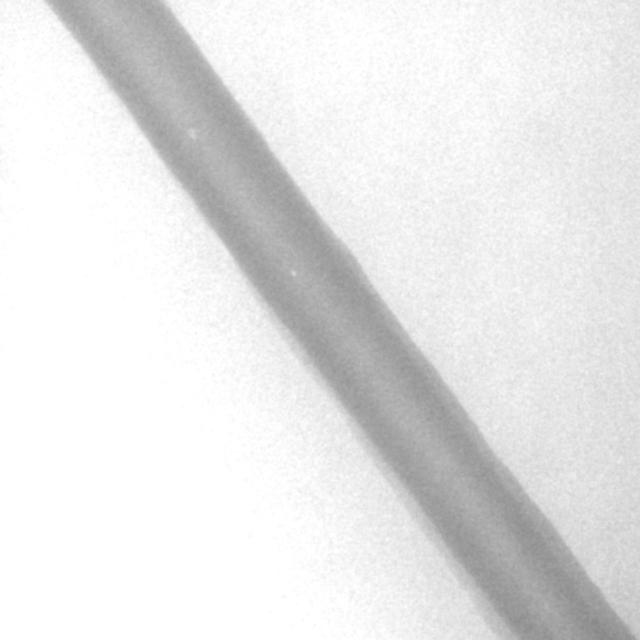air hole: (187, 125, 199, 141), (290, 266, 298, 278)
